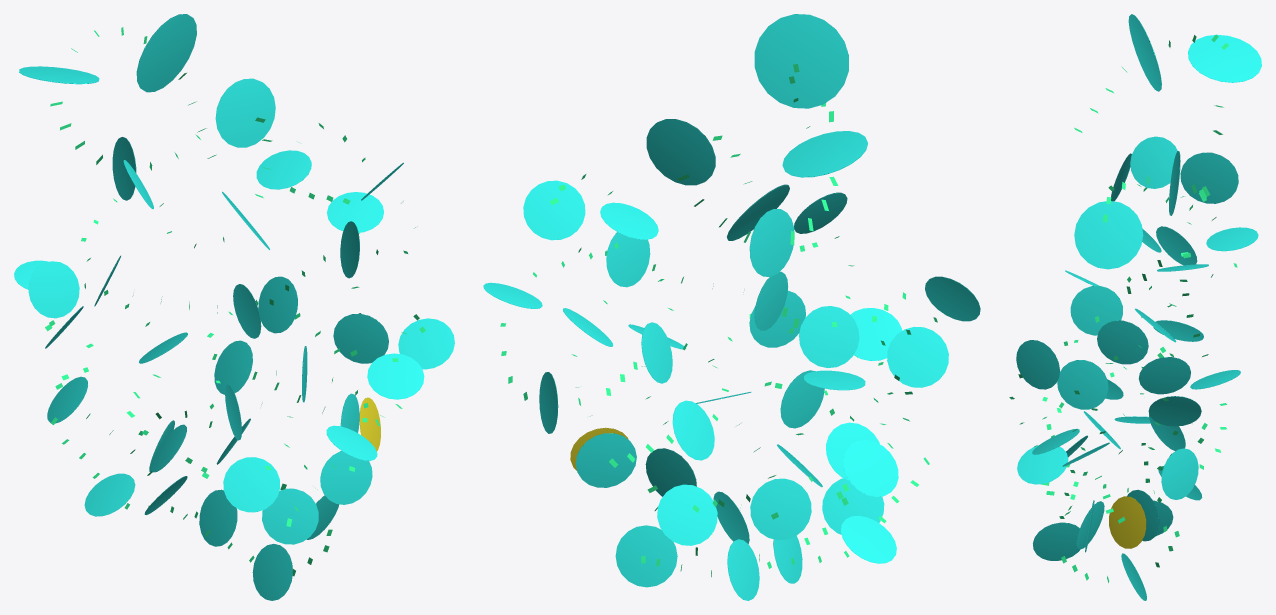
Rendered from VH_F_Sm_Intest_Measurements.glb.
The picture shows the model from 3 angles, left to right: view 1: azimuth 30°, elevation 25°; view 2: azimuth 150°, elevation 25°; view 3: azimuth 270°, elevation 25°; orthographic projection. The views are drawn at different scales.
Visible parts, largest first — view 1: VH_F_disc_at_020_cm, VH_F_disc_at_005_cm, VH_F_cm_markers, VH_F_disc_at_120_cm, VH_F_disc_at_100_cm, VH_F_disc_at_145_cm, VH_F_disc_at_065_cm, VH_F_disc_at_085_cm, VH_F_disc_at_095_cm, VH_F_disc_at_090_cm, VH_F_disc_at_170_cm, VH_F_disc_at_070_cm (+16 smaller); view 2: VH_F_disc_at_005_cm, VH_F_disc_at_020_cm, VH_F_disc_at_130_cm, VH_F_disc_at_155_cm, VH_F_disc_at_175_cm, VH_F_disc_at_035_cm, VH_F_cm_markers, VH_F_disc_at_125_cm, VH_F_disc_at_050_cm, VH_F_disc_at_010_cm, VH_F_disc_at_080_cm, VH_F_disc_at_160_cm (+22 smaller); view 3: VH_F_disc_at_025_cm, VH_F_disc_at_010_cm, VH_F_disc_at_015_cm, VH_F_cm_markers, VH_F_disc_at_115_cm, VH_F_disc_at_030_cm, VH_F_disc_at_040_cm, VH_F_disc_at_045_cm, VH_F_disc_at_110_cm, VH_F_jejunoileal_junction, VH_F_disc_at_070_cm, VH_F_disc_at_065_cm (+16 smaller).
Boxes of the visible parts, x1,y1,x2,y2 form: VH_F_disc_at_020_cm: (215,78,275,147); VH_F_disc_at_005_cm: (136,14,196,92); VH_F_cm_markers: (45,27,425,576); VH_F_disc_at_120_cm: (223,457,279,512); VH_F_disc_at_100_cm: (262,488,318,544); VH_F_disc_at_145_cm: (28,261,79,318); VH_F_disc_at_065_cm: (333,313,388,363); VH_F_disc_at_085_cm: (398,318,454,369); VH_F_disc_at_095_cm: (320,451,372,504); VH_F_disc_at_090_cm: (367,353,424,399); VH_F_disc_at_170_cm: (252,543,292,600); VH_F_disc_at_070_cm: (258,276,297,333); VH_F_disc_at_005_cm: (754,14,848,108); VH_F_disc_at_020_cm: (646,119,715,185); VH_F_disc_at_130_cm: (750,478,811,540); VH_F_disc_at_155_cm: (887,326,948,387); VH_F_disc_at_175_cm: (615,525,677,587); VH_F_disc_at_035_cm: (799,306,859,367); VH_F_cm_markers: (500,64,937,577); VH_F_disc_at_125_cm: (657,484,717,545); VH_F_disc_at_050_cm: (523,180,585,240); VH_F_disc_at_010_cm: (782,131,867,177); VH_F_disc_at_080_cm: (575,433,636,487); VH_F_disc_at_160_cm: (843,440,898,496); VH_F_disc_at_025_cm: (1074,201,1143,269); VH_F_disc_at_010_cm: (1188,34,1261,82); VH_F_disc_at_015_cm: (1180,152,1238,203); VH_F_cm_markers: (1009,34,1237,582); VH_F_disc_at_115_cm: (1057,360,1108,409); VH_F_disc_at_030_cm: (1130,136,1177,188); VH_F_disc_at_040_cm: (1070,286,1122,335); VH_F_disc_at_045_cm: (1097,320,1148,364); VH_F_disc_at_110_cm: (1016,340,1059,389); VH_F_jejunoileal_junction: (1109,496,1146,548); VH_F_disc_at_070_cm: (1138,357,1190,394); VH_F_disc_at_065_cm: (1161,448,1198,499).
Bounding box in the file's own units: 0.1619 × 0.2172 × 0.0956.
